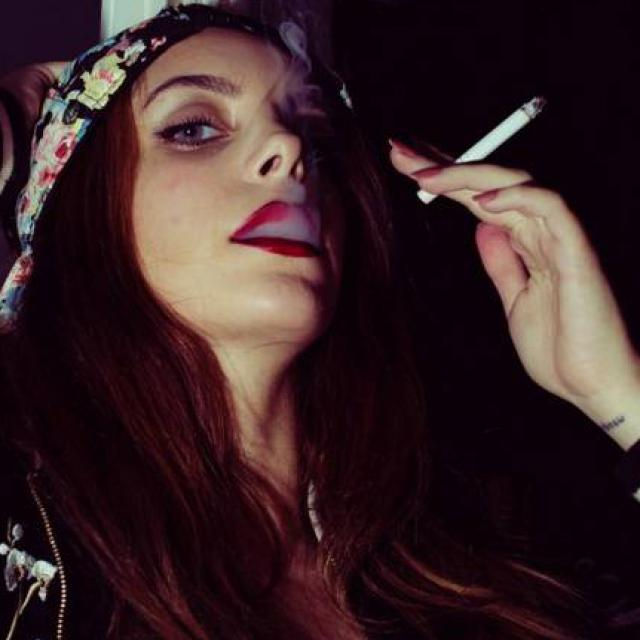smoking: (415, 94, 545, 208)
